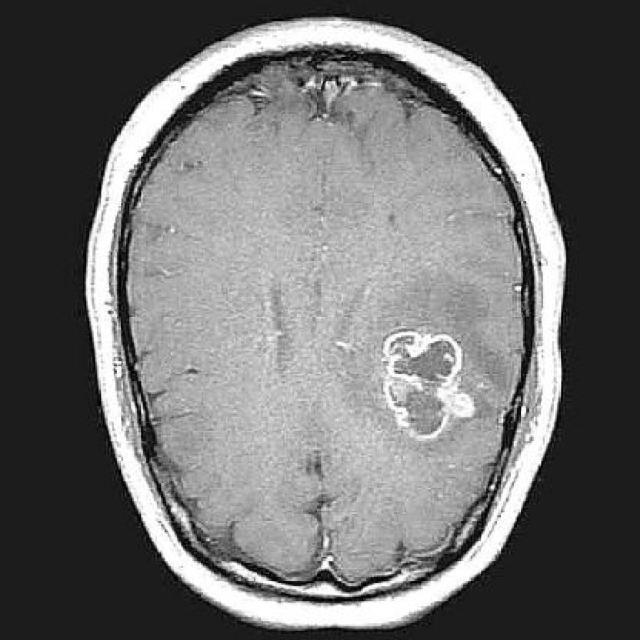Brain-Tumor: (367, 316, 485, 460)
